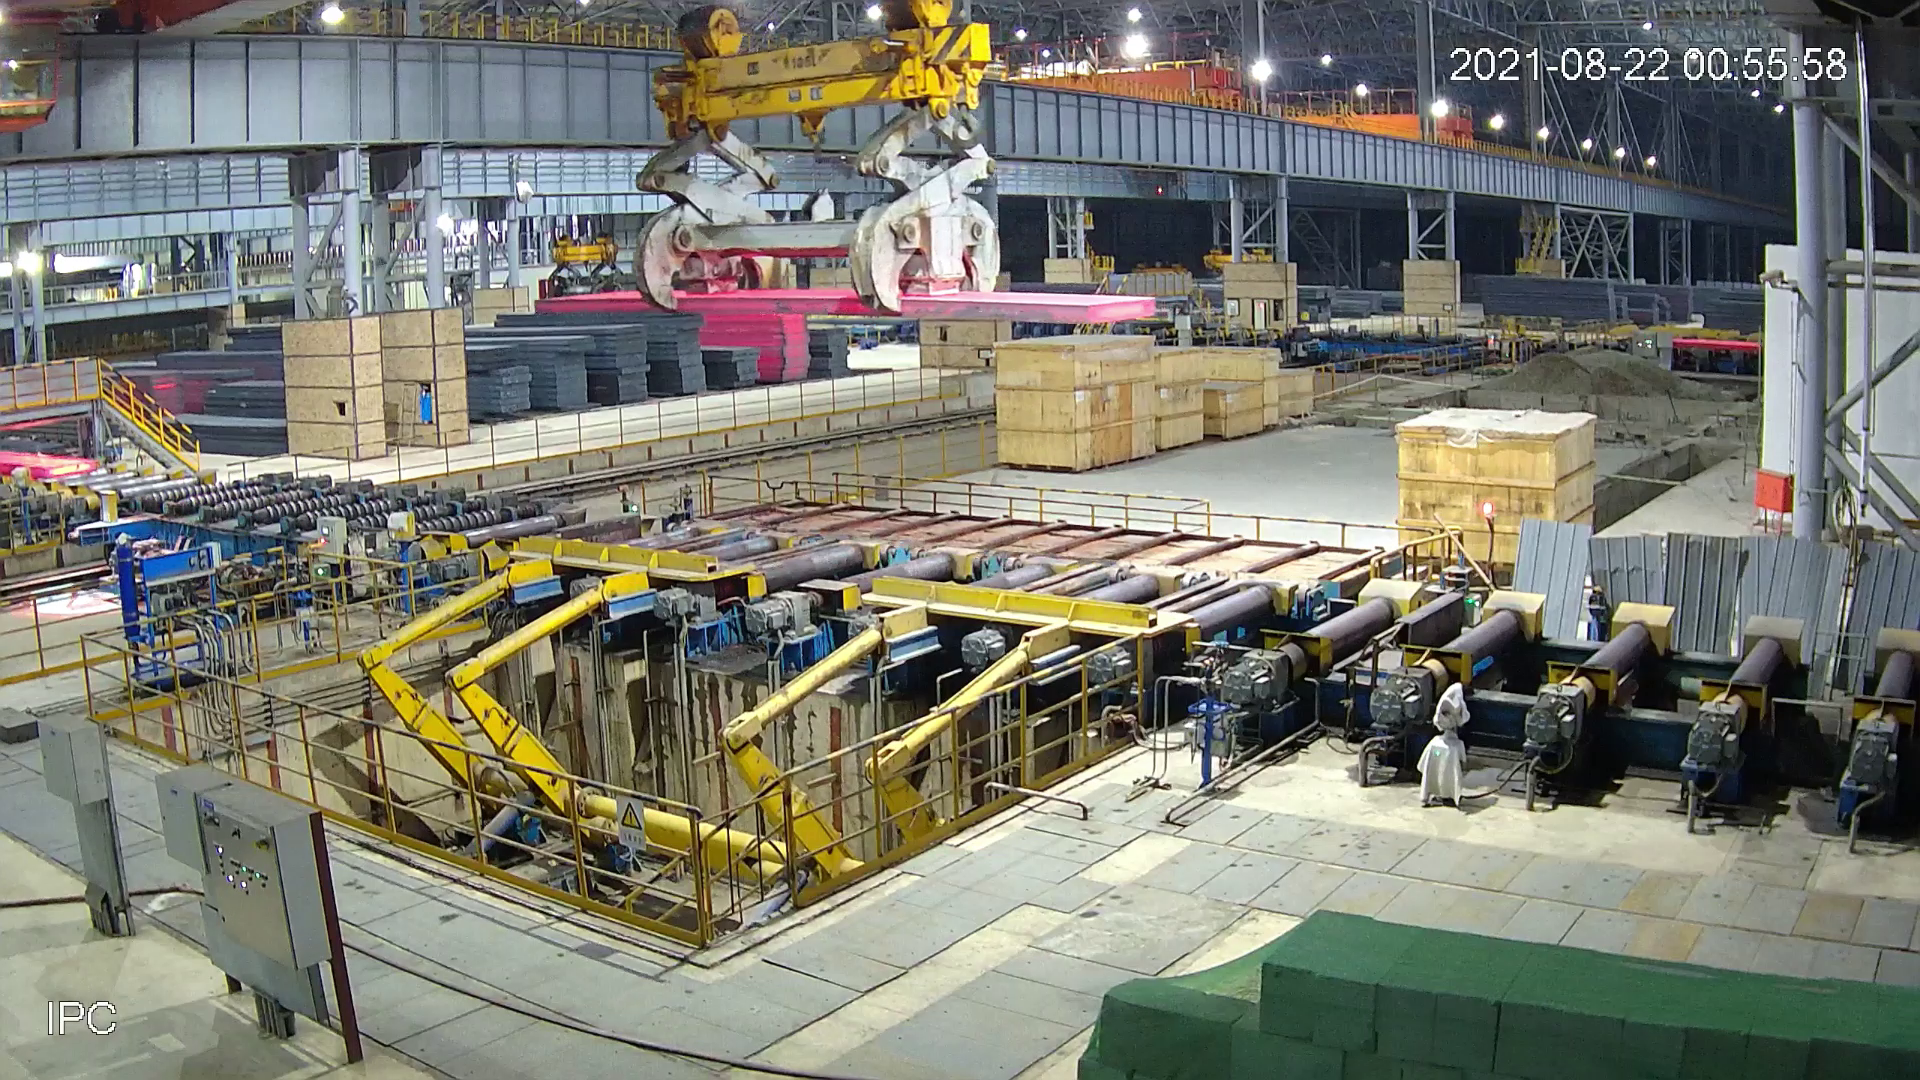craneandslab: (529, 7, 1162, 320)
slab: (1, 448, 105, 483)
